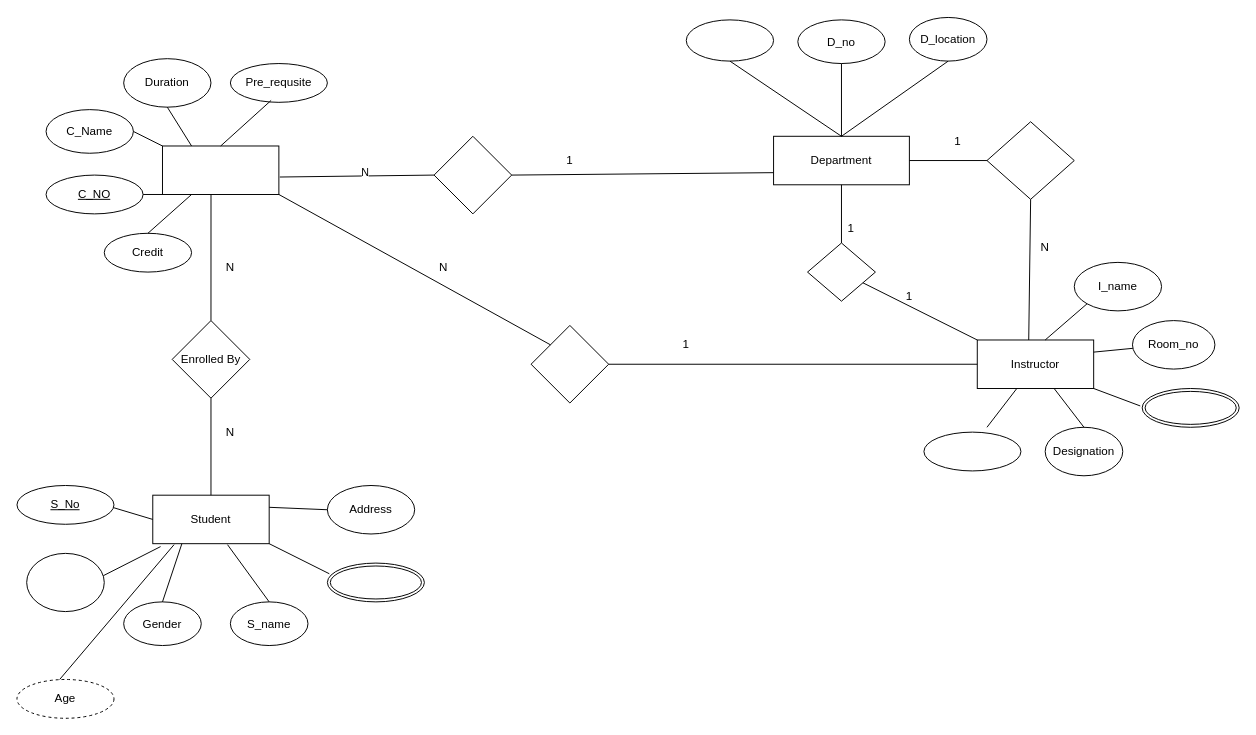
This 1256x735 diagram has some shape labels left out. The shapes that lost their labels are listed below. From the top down, each one's centre as x and y in pixels, then its label:
At (729,40): "D_name".
At (220,169): "courses".
At (472,174): "offers".
At (1030,160): "Has".
At (841,271): "headed by".
At (569,363): "Taught By".
At (1190,407): "Mob_NO".
At (972,451): "I_ID".
At (65,582): "DOB".
At (375,582): "Email".
